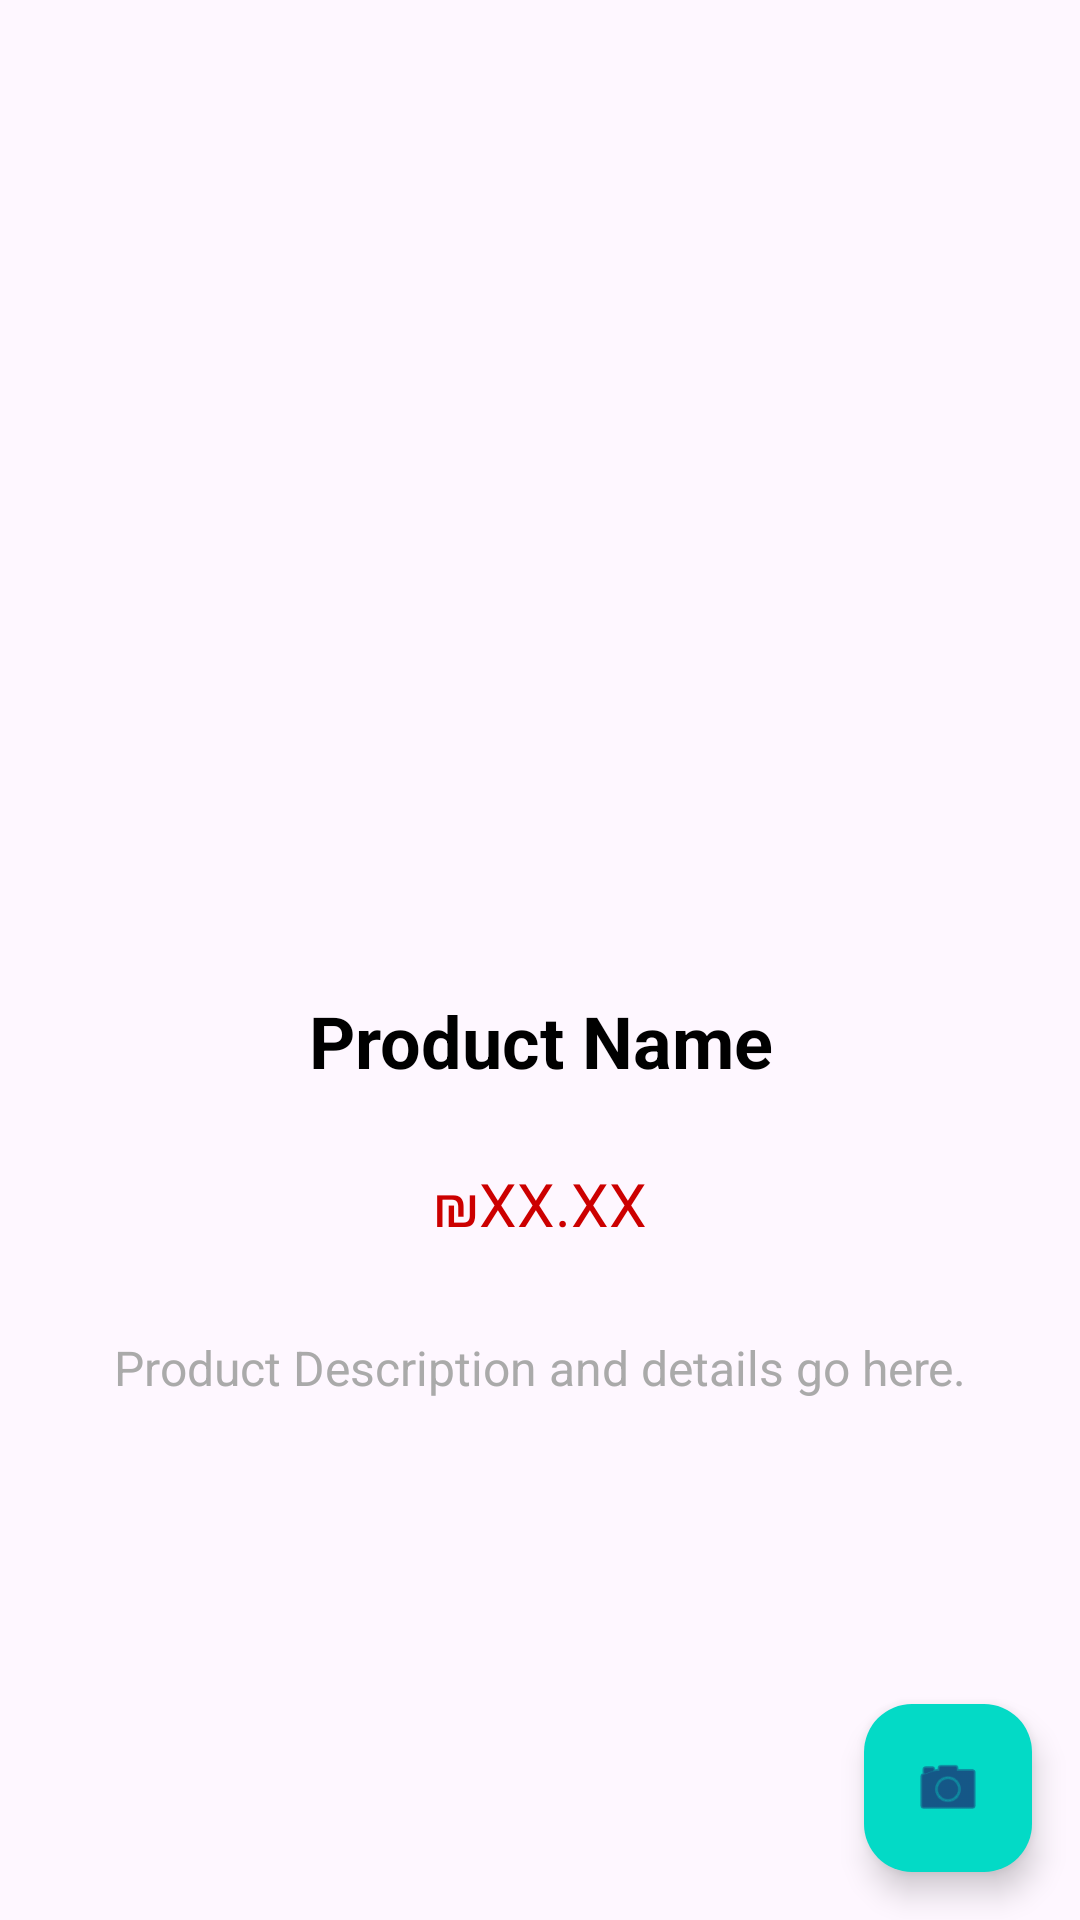

Screen size 1080×1920. Icon name, then its box in pixels as (x1,y1,x2,y2):
Add Product Image: (864,1704,1032,1872)
